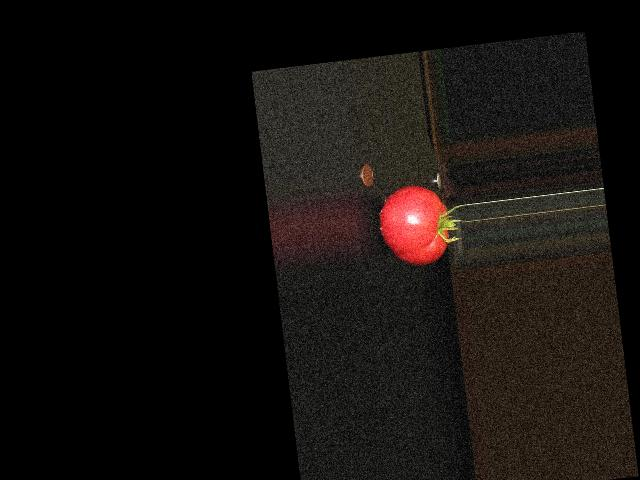tomato: (375, 182, 453, 270)
